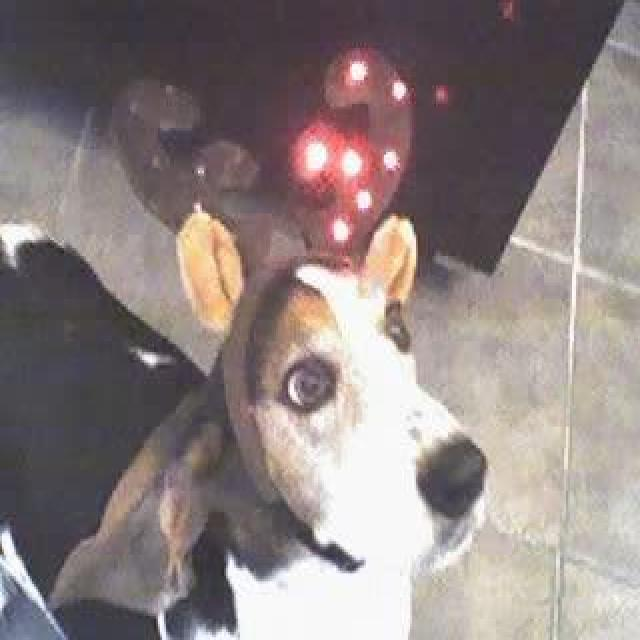basset: (4, 216, 488, 637)
